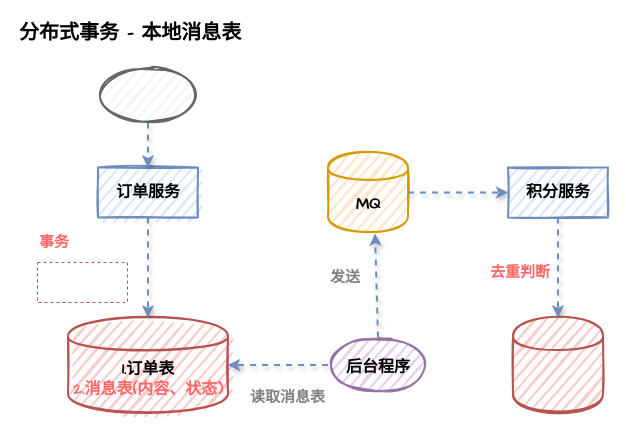
The diagram is 626 pixels wide and 430 high, and some of its shapes have lost their labels. Here are the shapes that lost their labels. From the top down, the centre of each, then its label:
At point 147,94: "客户端".
At point 82,282: "1.新建订单 2.写消息".
At point 558,364: "1.积分表 2.判重表".
